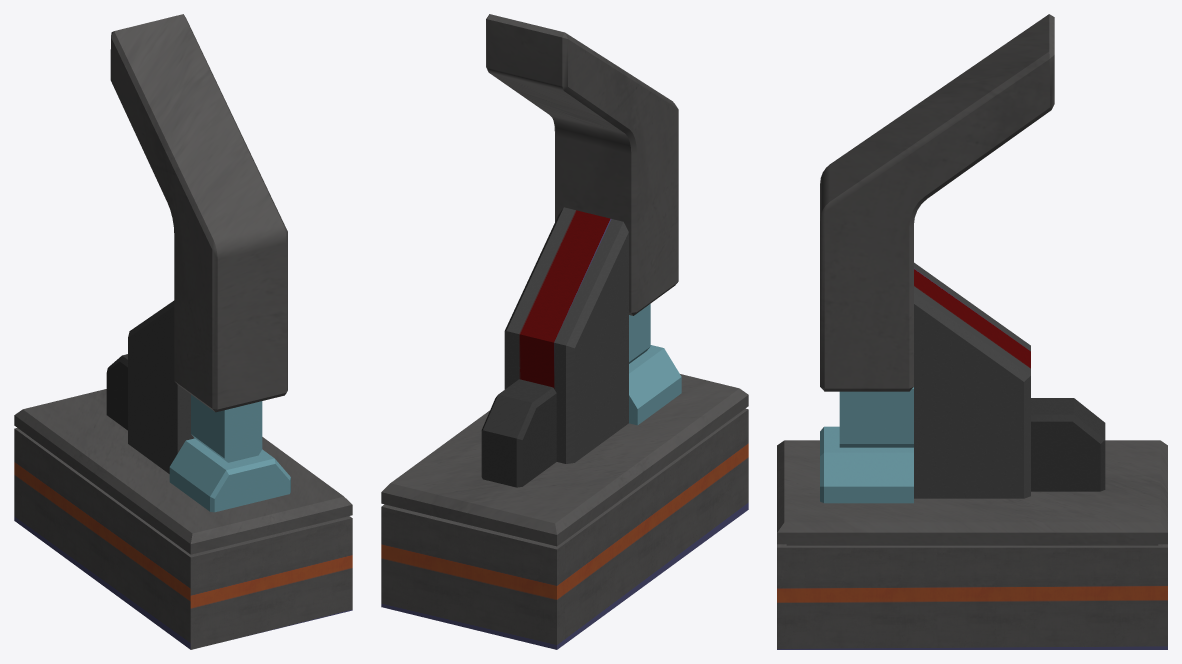
File: Table_Foot.fbx
3 renders of one model, left to right at view 1: azimuth 30°, elevation 25°; view 2: azimuth 150°, elevation 25°; view 3: azimuth 270°, elevation 25°, orthographic. The views are drawn at different scales.
Parts seen in each view (by area): view 1: Room_Table_Foot; view 2: Room_Table_Foot; view 3: Room_Table_Foot.
Part boxes in pixels (box(x1,y1,x2,y2)): Room_Table_Foot: box(14, 14, 352, 649); Room_Table_Foot: box(381, 14, 748, 649); Room_Table_Foot: box(777, 14, 1167, 649).
Size of the model in its own units: 45 by 138 by 85.
1 material, 1 textured.
